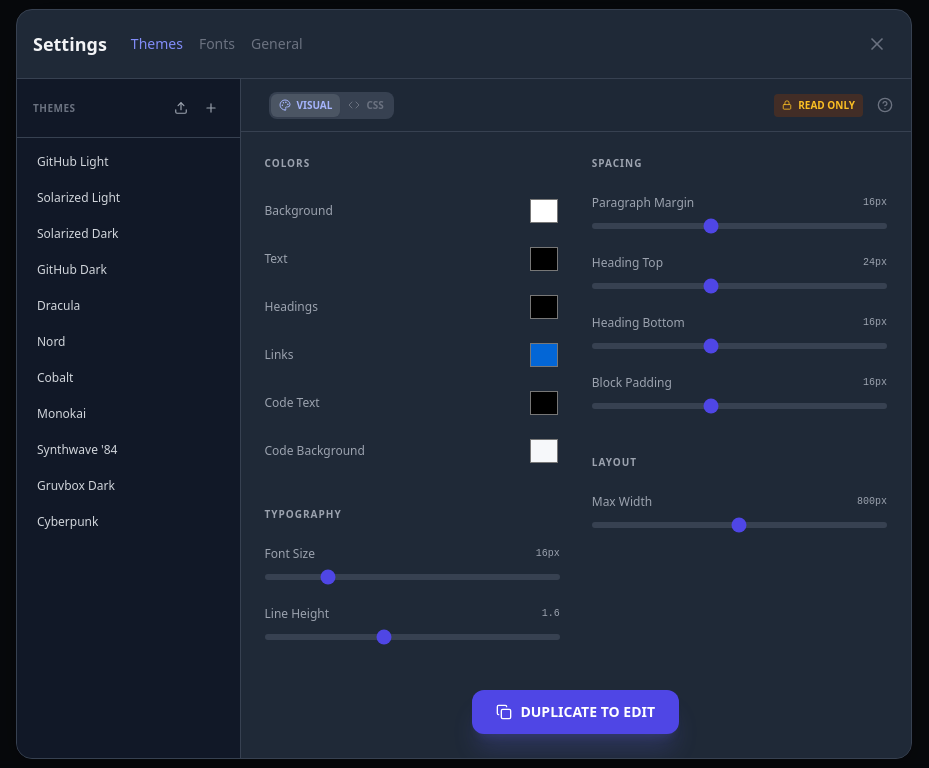
it: SettingsModal › toggles help panel
Click the button titled "CSS Reference".
click(885, 105)  # box x1=871 y1=91 x2=899 y2=119
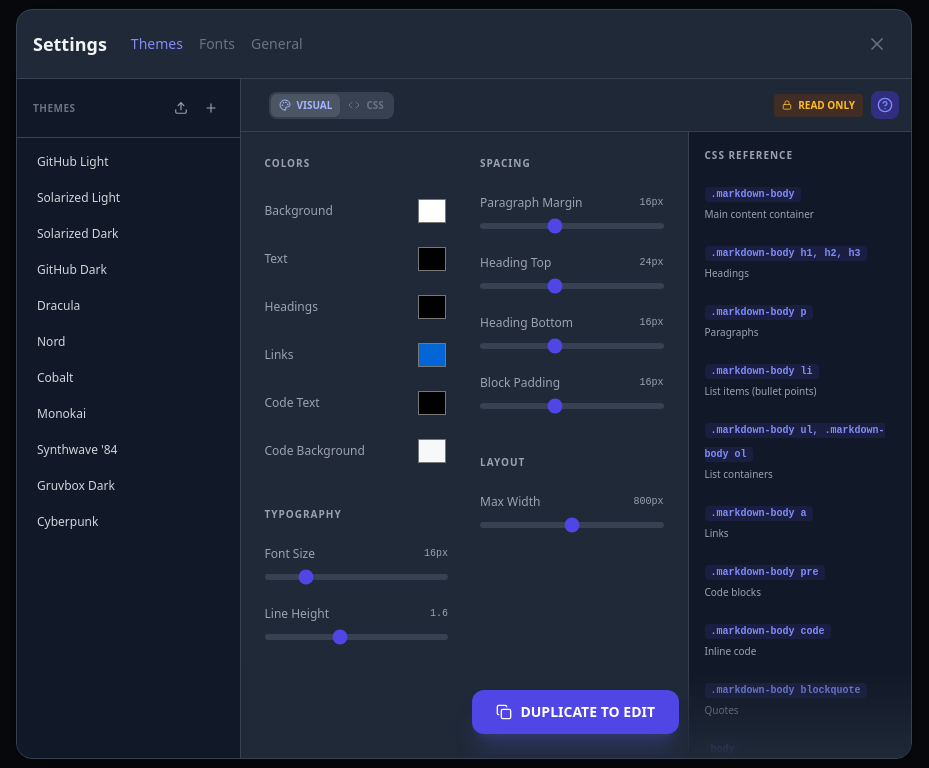
Now the heading "CSS Reference" is shown, box x1=704 y1=148 x2=793 y2=162
